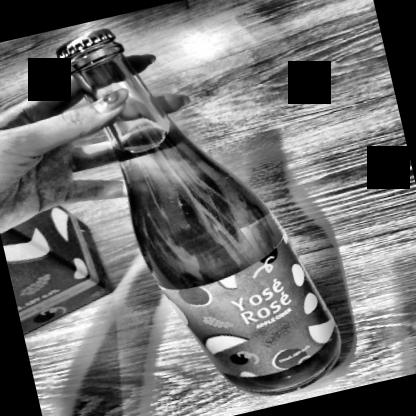yoserose: (154, 234, 352, 400)
